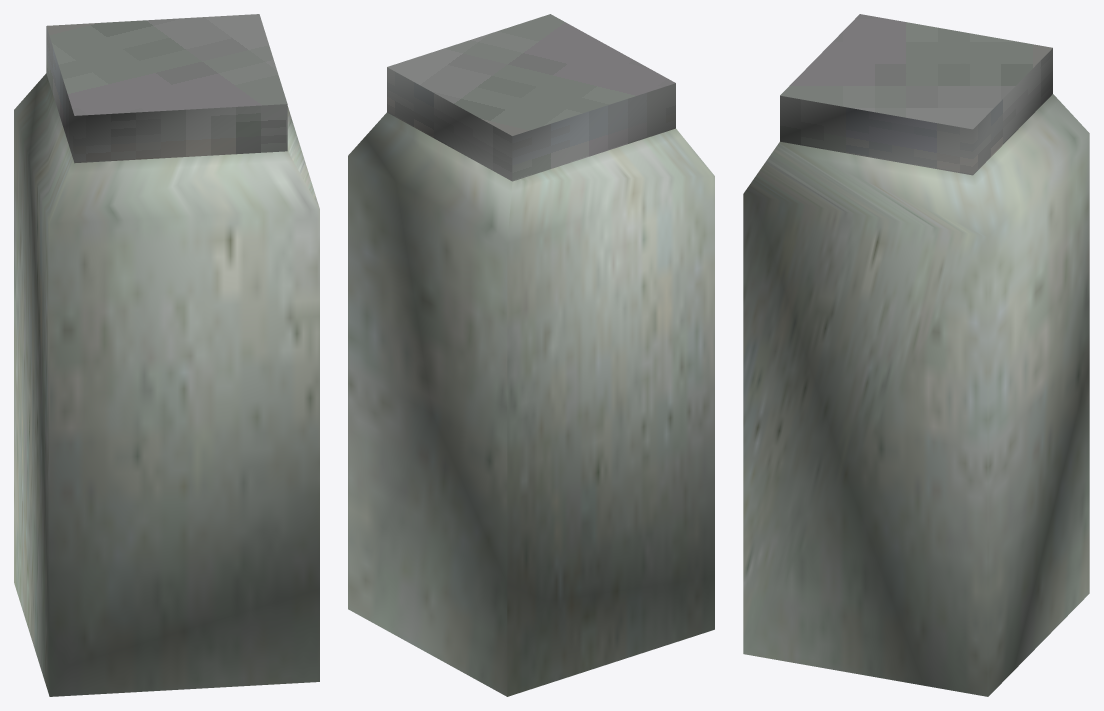
Rendered from edb_con_tato_jar_bugs_s01_l2.fbx.
The picture shows the model from 3 angles, left to right: view 1: azimuth 30°, elevation 25°; view 2: azimuth 150°, elevation 25°; view 3: azimuth 270°, elevation 25°; orthographic projection. The views are drawn at different scales.
Parts seen in each view (by area): view 1: mesh_node; view 2: mesh_node; view 3: mesh_node.
Boxes of the visible parts, bbox=[...] form: mesh_node: bbox=[14, 14, 319, 696]; mesh_node: bbox=[348, 14, 714, 696]; mesh_node: bbox=[743, 14, 1089, 696].
Size of the model in its own units: 0.1707 by 0.3 by 0.1707.
Materials: 2 (2 with a texture image).
